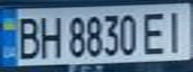0: (118, 10, 142, 57)
3: (103, 11, 121, 57)
8: (63, 12, 87, 57), (84, 11, 106, 58)
B: (9, 14, 42, 61)
E: (139, 8, 172, 55)
H: (36, 12, 63, 60)
I: (160, 7, 193, 55)
